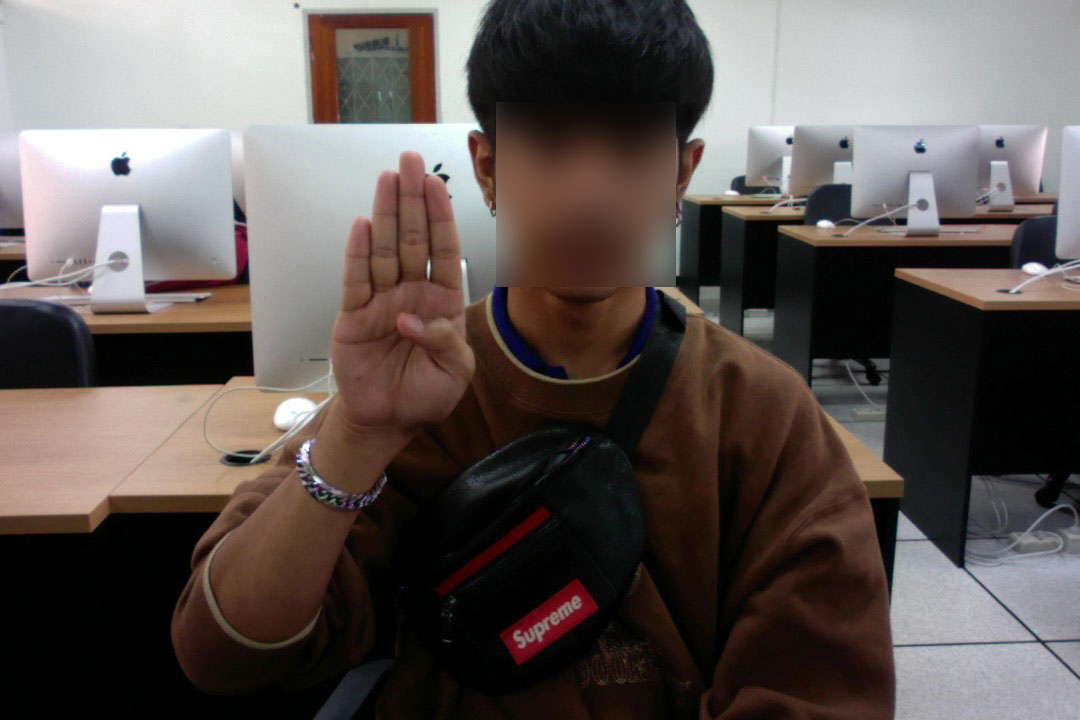bor: (321, 145, 482, 445)
